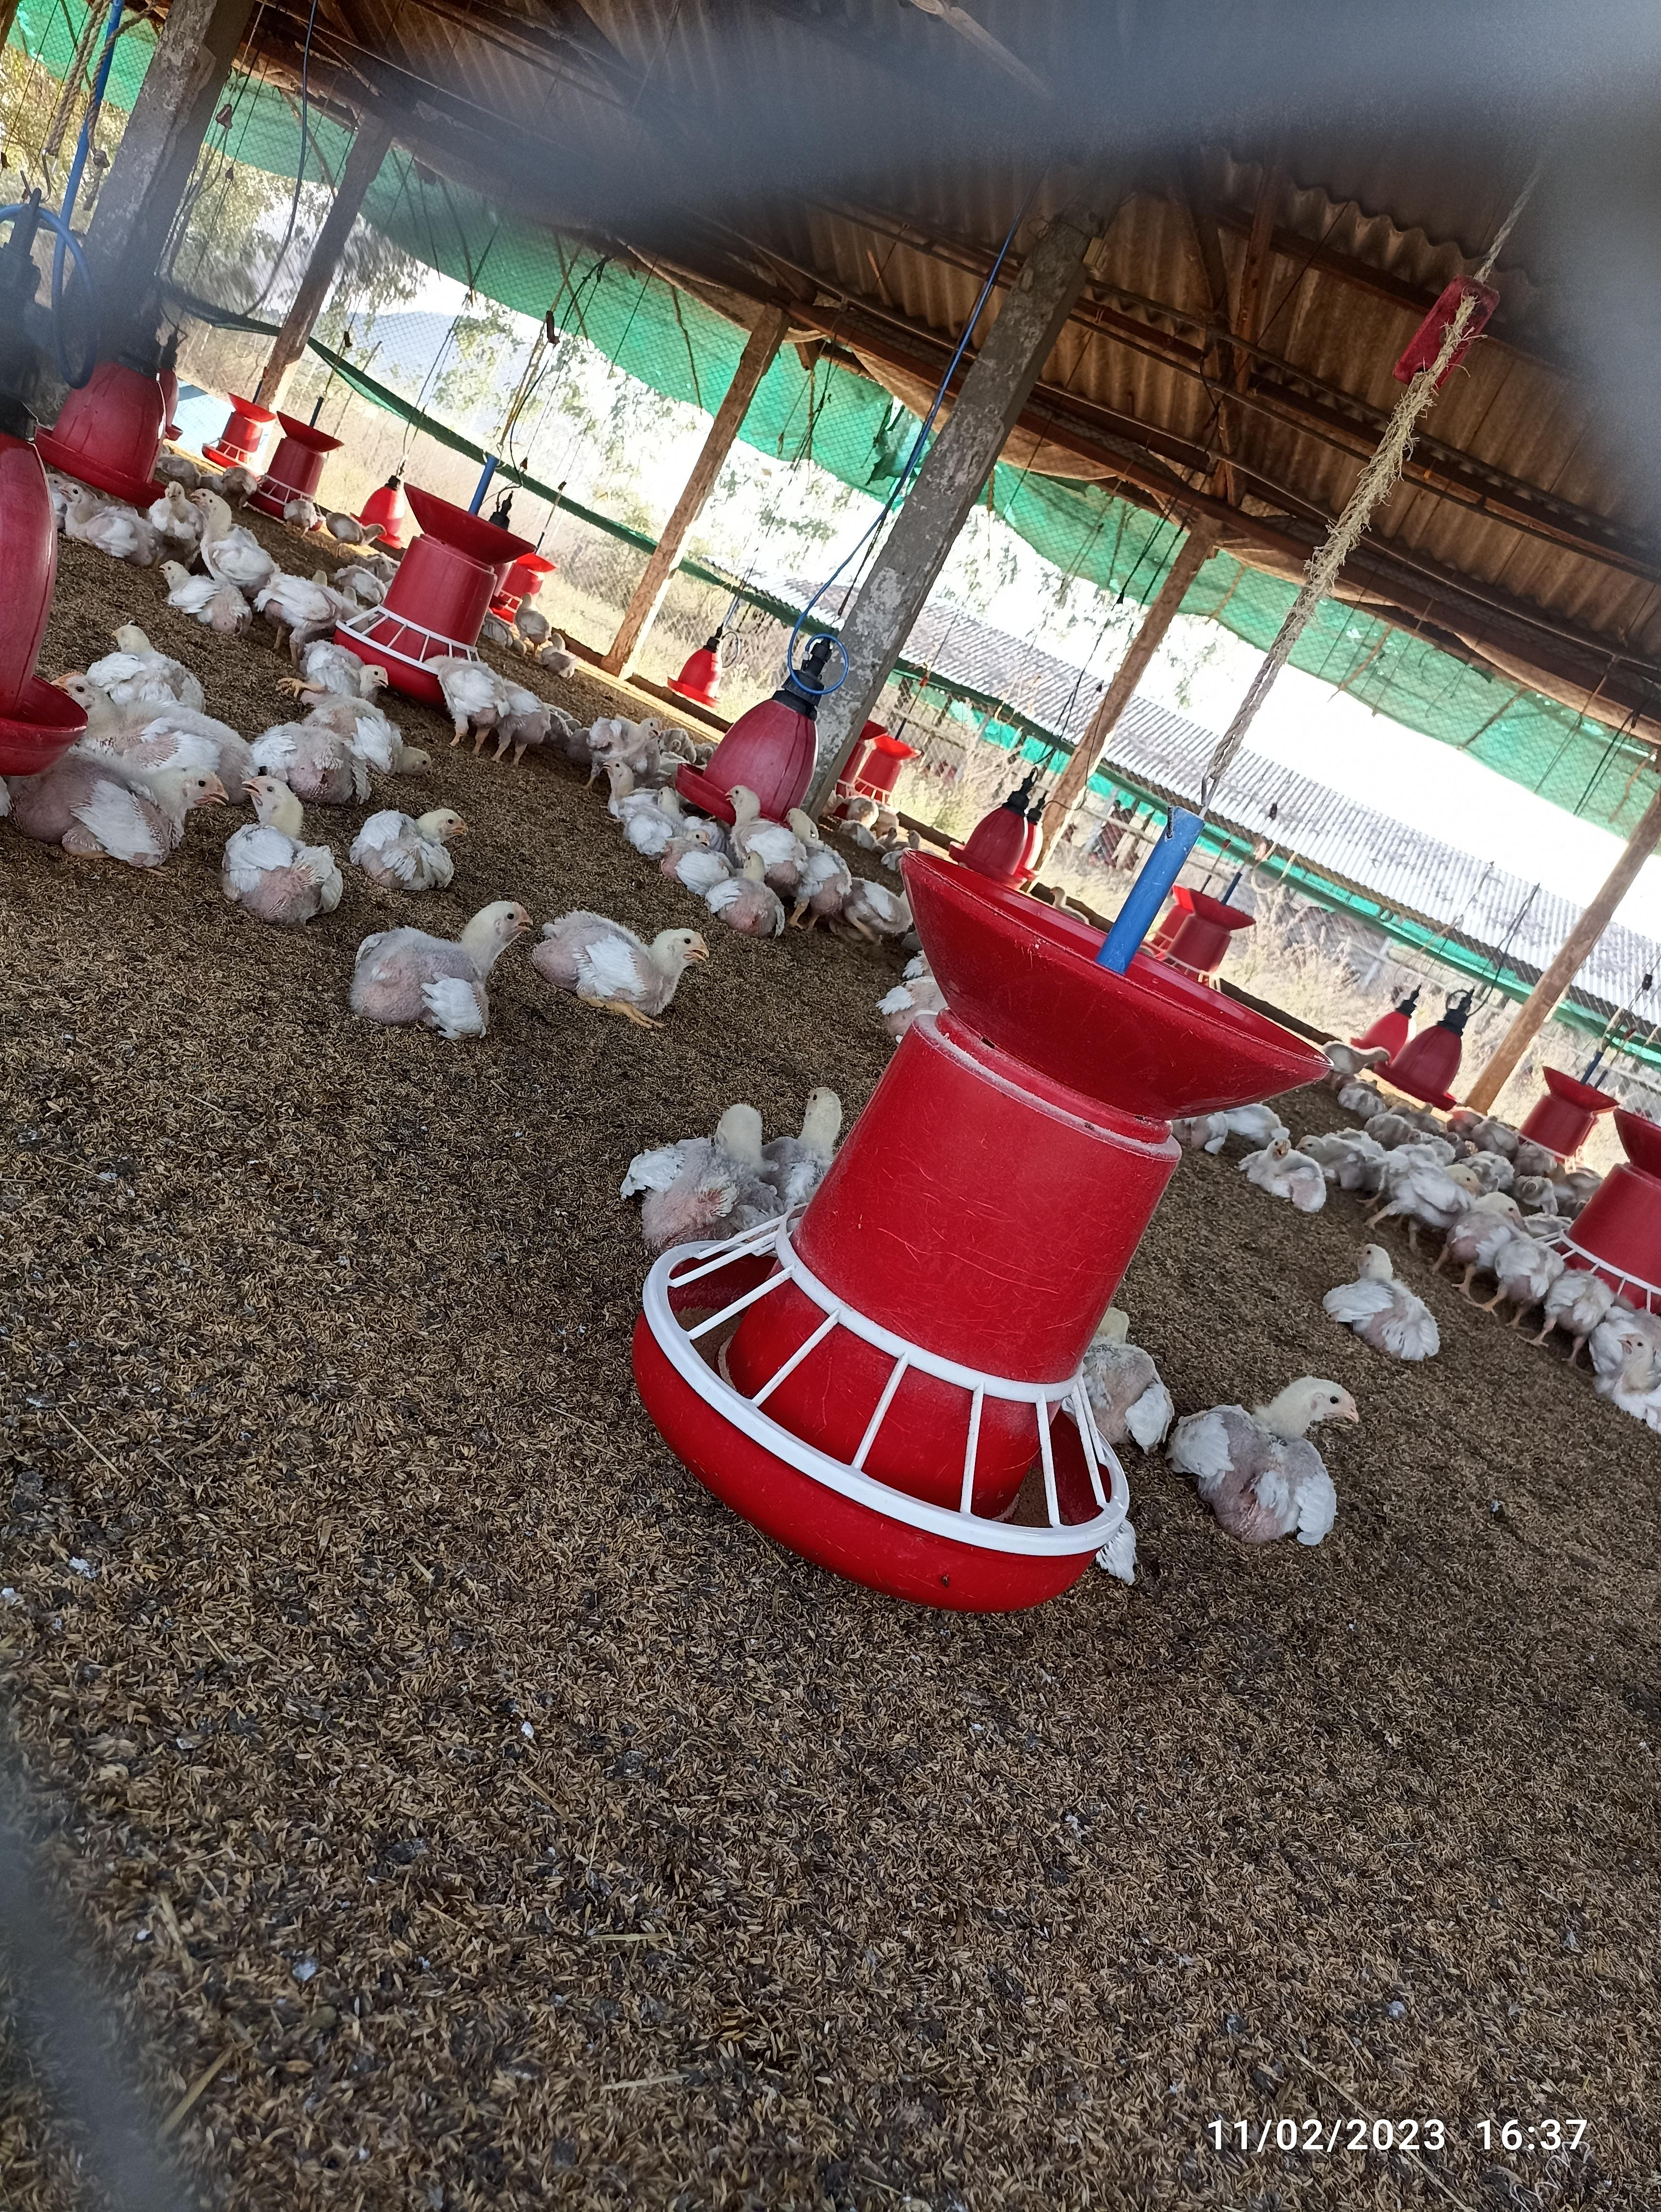Pollos: (1179, 1373, 1364, 1544), (352, 900, 537, 1026), (525, 907, 721, 1019), (31, 755, 229, 864), (626, 1103, 782, 1232), (204, 769, 349, 904), (1331, 1232, 1445, 1359), (417, 637, 525, 745), (349, 799, 471, 883), (147, 546, 255, 640), (721, 776, 789, 890), (1244, 1123, 1331, 1211)
